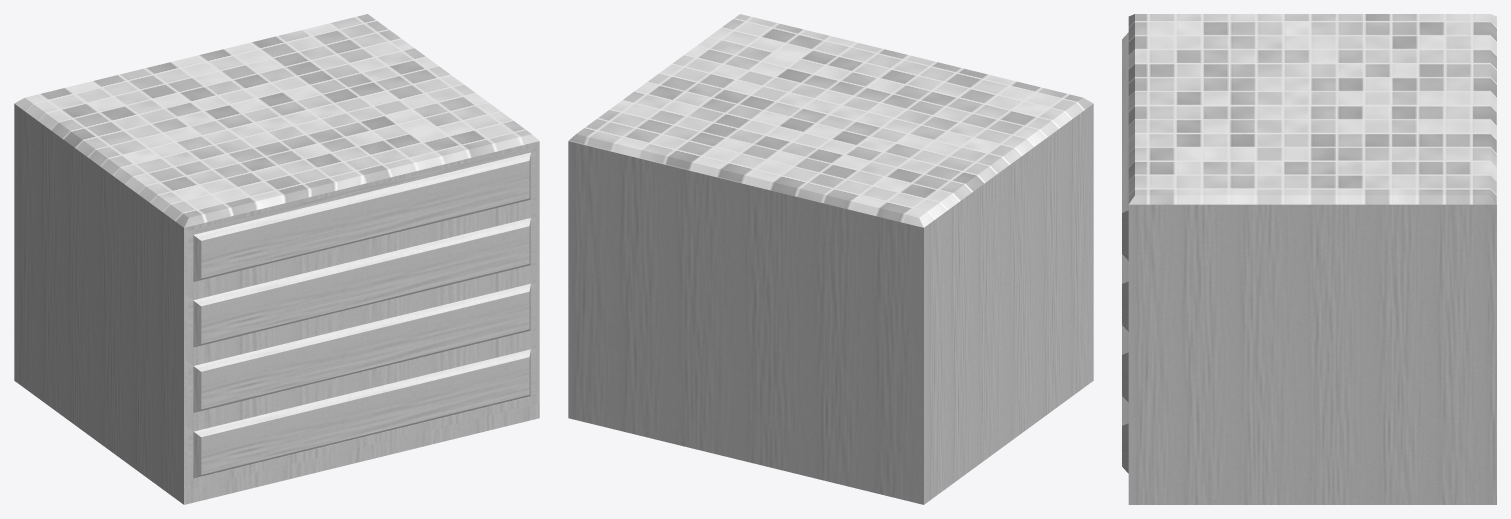
The model's file is Open_Kitchencounter_B.FBX.
3 renders of one model, left to right at view 1: azimuth 30°, elevation 25°; view 2: azimuth 150°, elevation 25°; view 3: azimuth 270°, elevation 25°, orthographic. The views are drawn at different scales.
Visible parts, largest first — view 1: Open_Counter_B, Drawer_B, Drawer_A, Drawer_C, Drawer_D; view 2: Open_Counter_B; view 3: Open_Counter_B, Drawer_A, Drawer_B, Drawer_C, Drawer_D.
Part boxes in pixels (x1,y1,x2,y2): Open_Counter_B: (14,14,539,504); Drawer_B: (193,218,530,347); Drawer_A: (193,152,530,281); Drawer_C: (193,283,530,412); Drawer_D: (193,349,530,478); Open_Counter_B: (568,14,1093,504); Open_Counter_B: (1128,14,1496,504); Drawer_A: (1122,32,1128,260); Drawer_B: (1122,254,1128,331); Drawer_C: (1122,325,1128,402); Drawer_D: (1122,396,1128,473).
Size of the model in its own units: 181 by 138 by 153.
